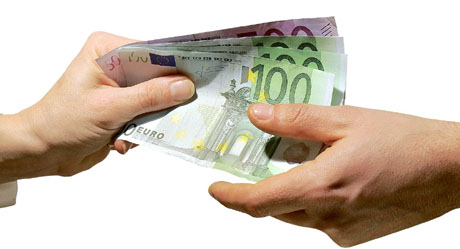billete: (93, 14, 351, 185)
